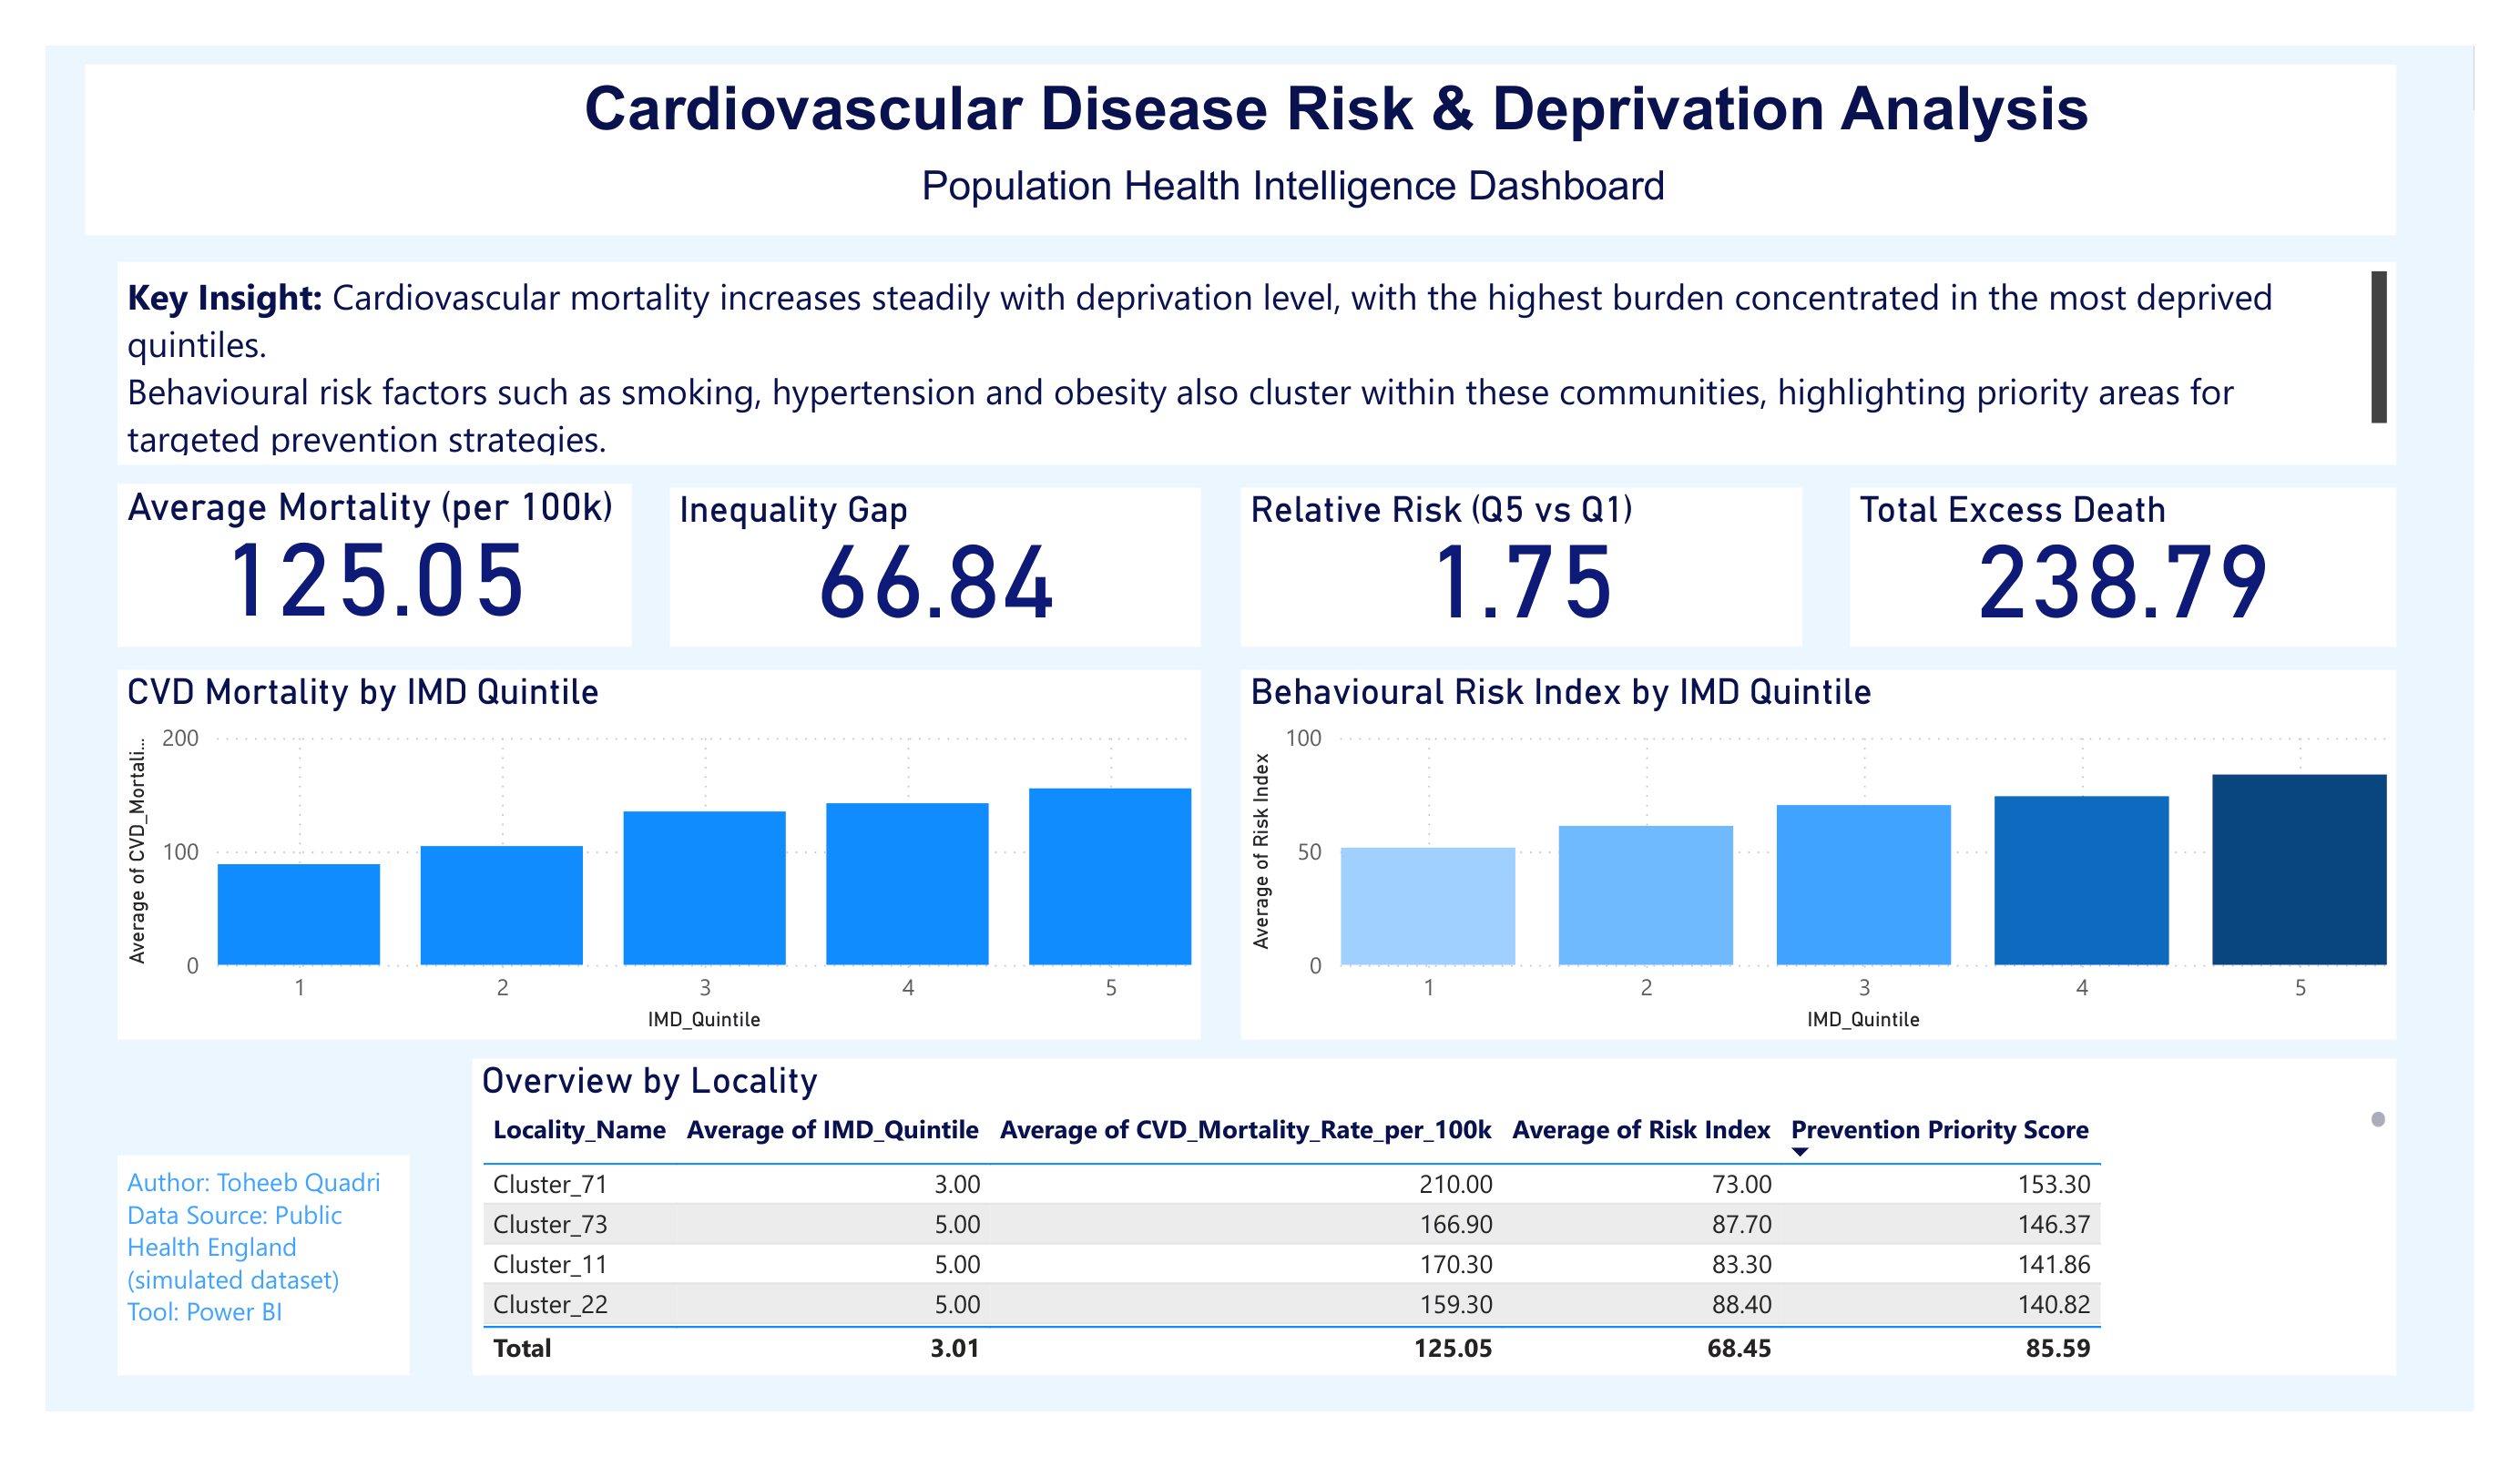

The dashboard page shown, as its layout file describes it:
{"tool":"powerbi","page":{"name":"Population Health Overview","canvas":[1280,720],"ordinal":0},"visuals":[{"type":"card","title":"Average Mortality (per 100k)","fields":{"Values":["cvd_deprivation_messy_dataset.Average Mortality"]},"box":[38.4,230.5,270.3,86.4],"z":0},{"type":"card","title":"Inequality Gap","fields":{"Values":["cvd_deprivation_messy_dataset.Inequality Gap"]},"box":[329.3,233.3,279.9,83.7],"z":1000},{"type":"card","title":"Relative Risk (Q5 vs  Q1)","fields":{"Values":["cvd_deprivation_messy_dataset.Relative Risk"]},"box":[629.8,233.3,296.4,83.7],"z":2000},{"type":"card","title":"Total Excess Death","fields":{"Values":["cvd_deprivation_messy_dataset.Excess Deaths"]},"box":[950.9,233.3,288.2,83.7],"z":3000},{"type":"clusteredColumnChart","title":"CVD Mortality by IMD Quintile","fields":{"Category":["cvd_deprivation_messy_dataset.IMD_Quintile"],"Y":["Avg(cvd_deprivation_messy_dataset.CVD_Mortality_Rate_per_100k)"]},"box":[38.4,329.3,570.8,194.9],"z":4000},{"type":"columnChart","title":"Behavioural Risk Index by IMD Quintile","fields":{"Category":["cvd_deprivation_messy_dataset.IMD_Quintile"],"Y":["Avg(cvd_deprivation_messy_dataset.Risk Index)"]},"box":[629.8,329.3,609.3,194.9],"z":5000},{"type":"textbox","box":[38.4,584.6,153.7,116.6],"z":6000},{"type":"tableEx","title":"Overview by Locality","fields":{"Values":["cvd_deprivation_messy_dataset.Locality_Name","Avg(cvd_deprivation_messy_dataset.IMD_Quintile)","Avg(cvd_deprivation_messy_dataset.CVD_Mortality_Rate_per_100k)","Avg(cvd_deprivation_messy_dataset.Risk Index)","cvd_deprivation_messy_dataset.Prevention Priority Score"]},"box":[225,533.8,1014.1,167.4],"z":7000},{"type":"textbox","box":[20.6,9.6,1218.5,90.6],"z":8000},{"type":"textbox","box":[38.4,113.9,1200.7,107],"z":9000}]}

Visuals, with their boxes on the page's 1280x720 design canvas (x1, y1, x2, y2). These are canvas units, not pixel positions in the 2520x1457 screenshot, which may show the page scaled, cropped or inside an application window:
"Average Mortality (per 100k)" card: detection(38, 230, 309, 317)
"Inequality Gap" card: detection(329, 233, 609, 317)
"Relative Risk (Q5 vs  Q1)" card: detection(630, 233, 926, 317)
"Total Excess Death" card: detection(951, 233, 1239, 317)
"CVD Mortality by IMD Quintile" clusteredColumnChart: detection(38, 329, 609, 524)
"Behavioural Risk Index by IMD Quintile" columnChart: detection(630, 329, 1239, 524)
textbox: detection(38, 585, 192, 701)
"Overview by Locality" tableEx: detection(225, 534, 1239, 701)
textbox: detection(21, 10, 1239, 100)
textbox: detection(38, 114, 1239, 221)
